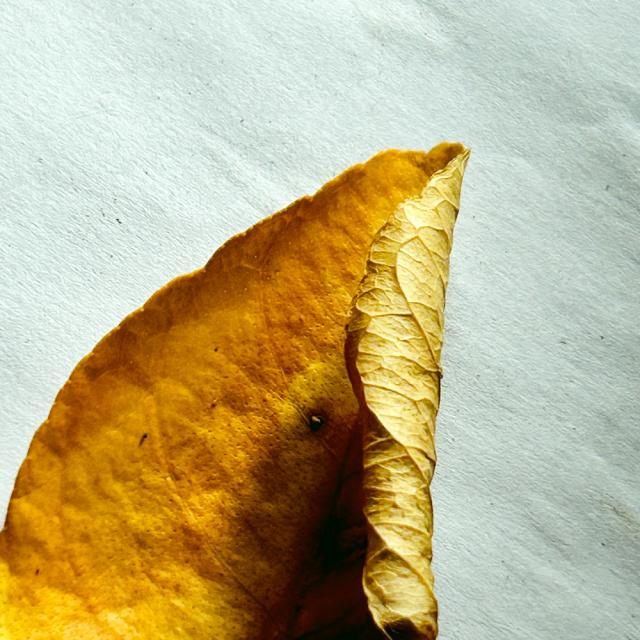DryLeaf_Lemon: (0, 143, 469, 639)
